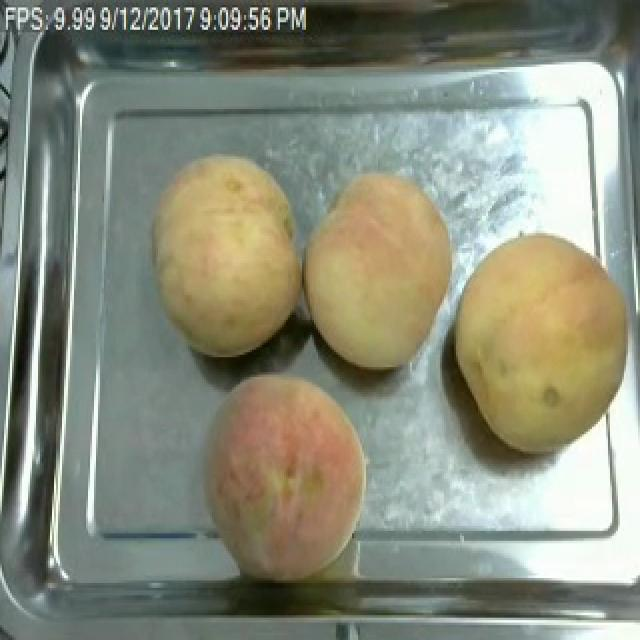Fruit: (442, 224, 640, 462), (196, 365, 378, 588), (142, 146, 312, 365), (296, 164, 464, 377)
